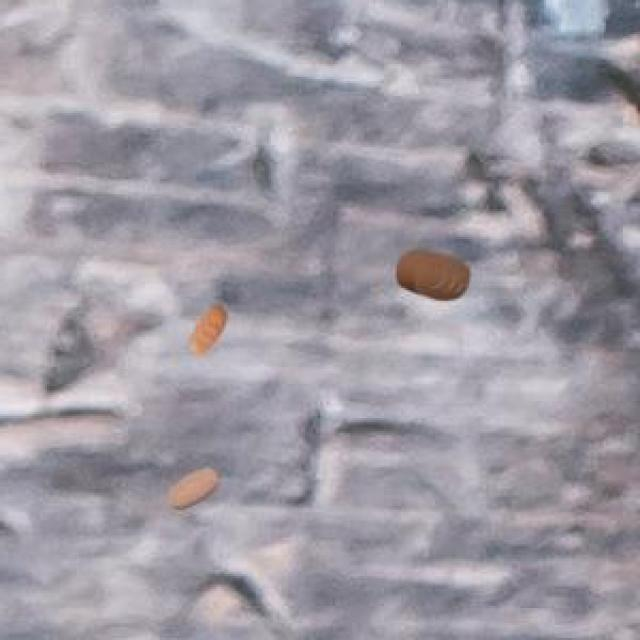Biogesic: (381, 232, 489, 320), (151, 450, 238, 529), (172, 290, 242, 370)
